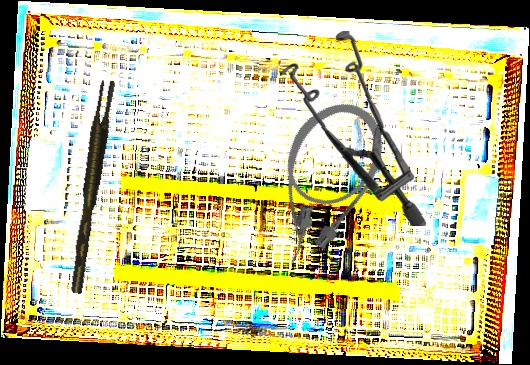Cannula: (240, 85, 402, 279)
Speculum: (275, 28, 433, 227)
Tissue Forceps: (59, 78, 123, 295)
